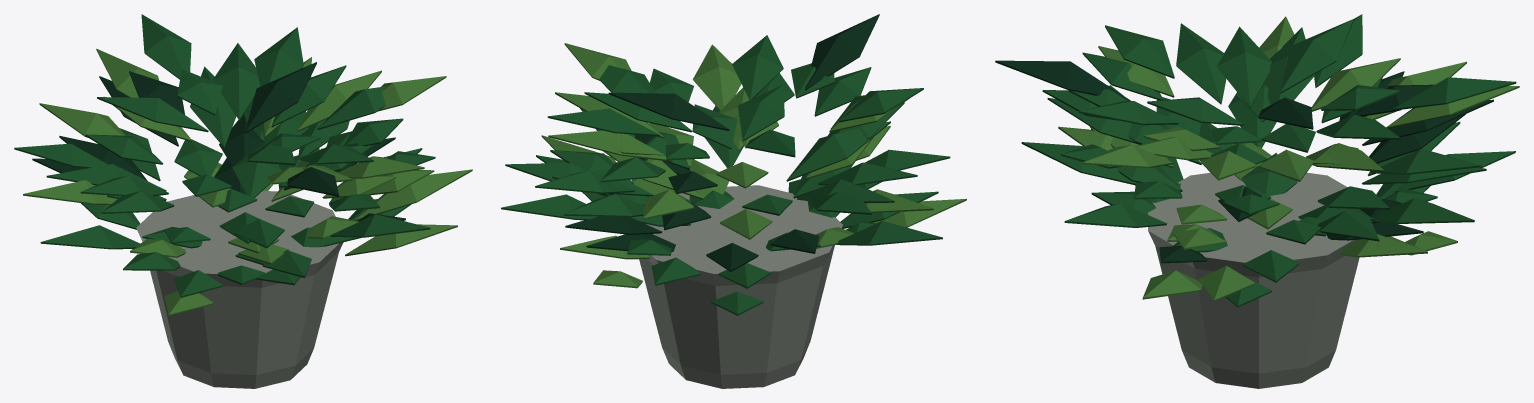
Rendered from Floreira_folhosa_LOD0.fbx.
3 renders of one model, left to right at view 1: azimuth 30°, elevation 25°; view 2: azimuth 150°, elevation 25°; view 3: azimuth 270°, elevation 25°, orthographic. The views are drawn at different scales.
Parts seen in each view (by area): view 1: Floreira_folhosa_LOD0; view 2: Floreira_folhosa_LOD0; view 3: Floreira_folhosa_LOD0.
Part boxes in pixels (x1,y1,x2,y2): Floreira_folhosa_LOD0: (14,14,472,388); Floreira_folhosa_LOD0: (501,14,966,388); Floreira_folhosa_LOD0: (995,14,1519,388).
Size of the model in its own units: 210 by 125 by 207.
1 material, 1 textured.
